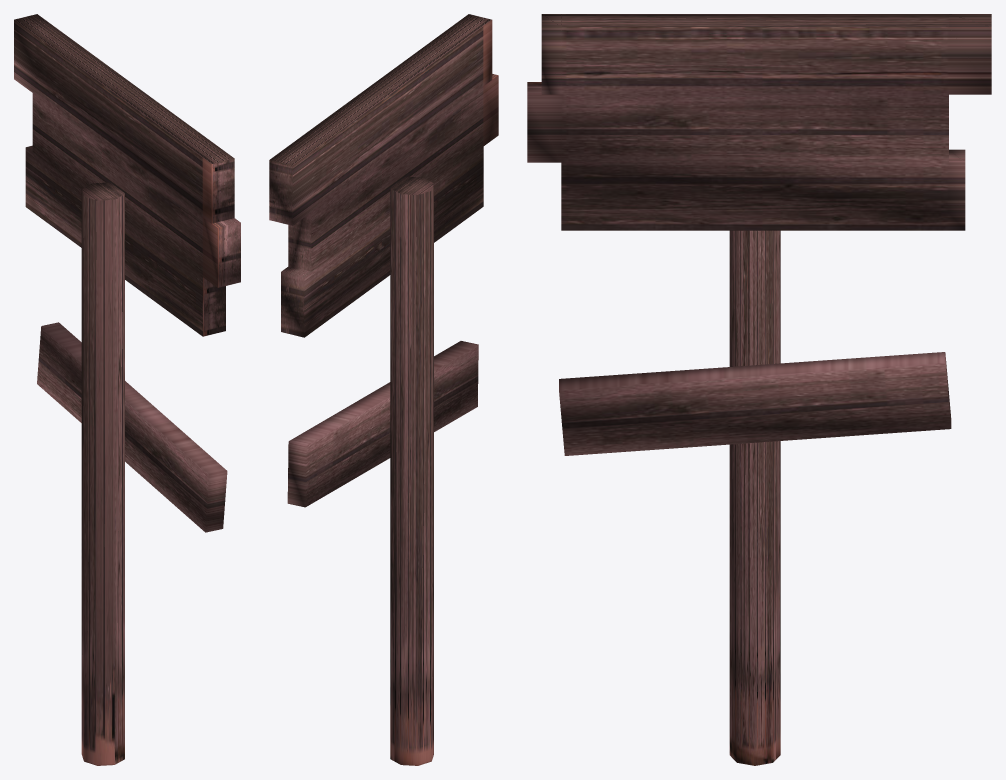
Rendered from Cerca3.fbx.
3 views of the same model, side by side, from view 1: azimuth 30°, elevation 25°; view 2: azimuth 150°, elevation 25°; view 3: azimuth 270°, elevation 25° (orthographic). The views are drawn at different scales.
Visible parts, largest first — view 1: Cerca3; view 2: Cerca3; view 3: Cerca3.
Part boxes in pixels (x1=…): Cerca3: x1=14, y1=14, x2=240, y2=765; Cerca3: x1=269, y1=14, x2=498, y2=765; Cerca3: x1=527, y1=14, x2=991, y2=765.
Size of the model in its own units: 16.14 by 97.5 by 174.
